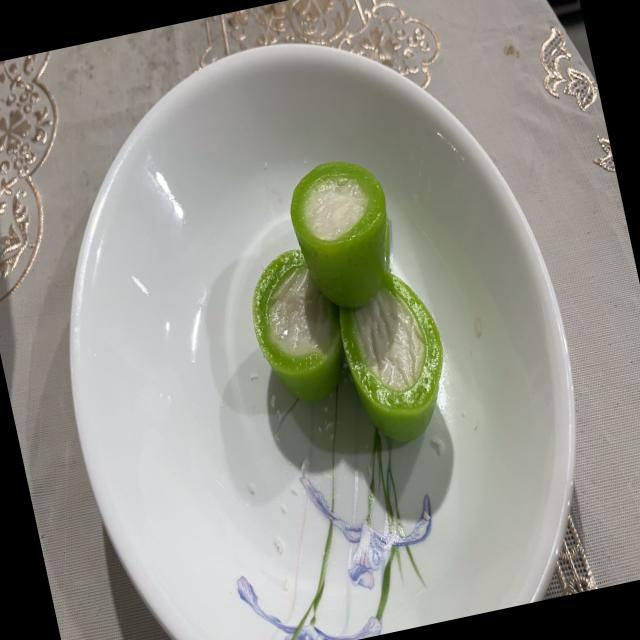nona-manis: (339, 272, 442, 441), (290, 161, 390, 309), (252, 249, 343, 400)
